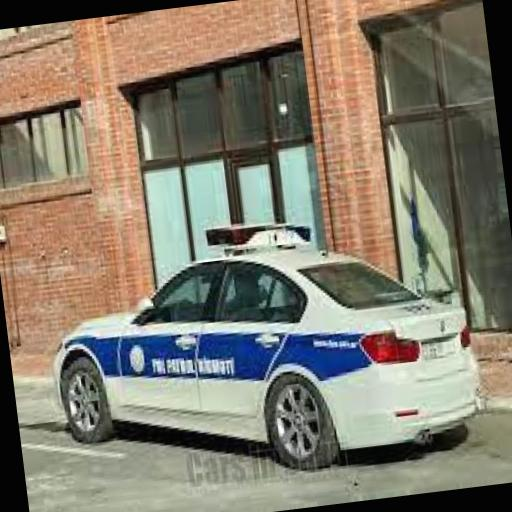Ambulance: (41, 200, 485, 489)
